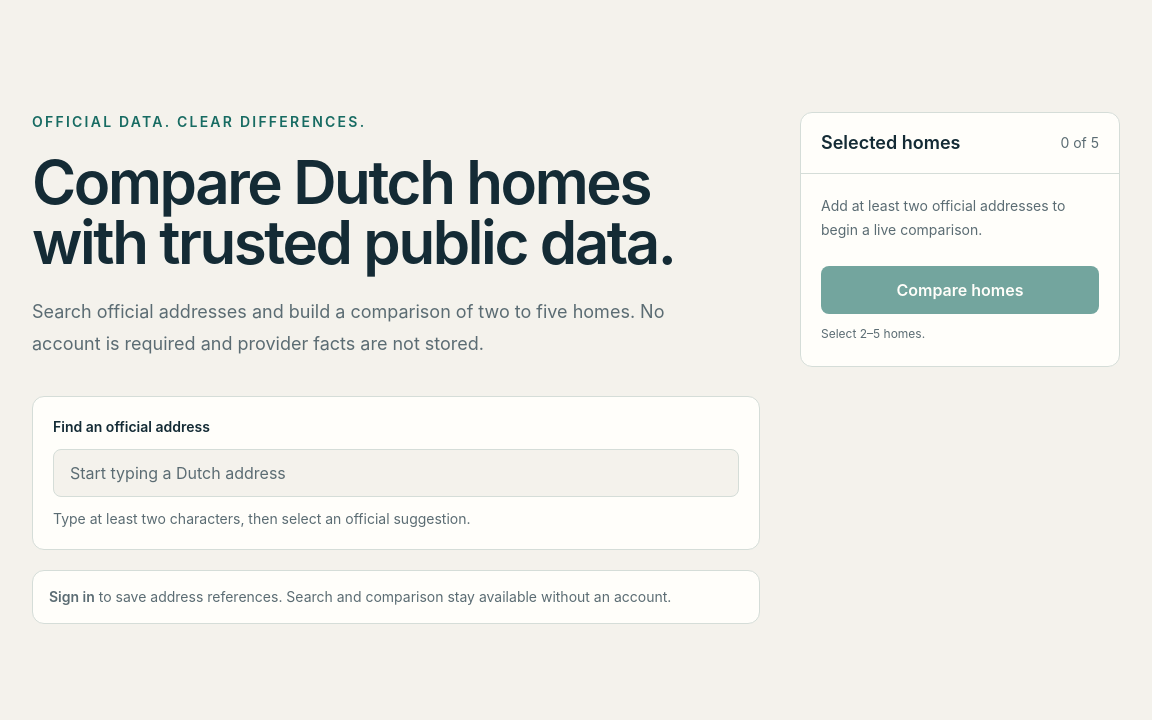
Test case: ComparisonBuilder › preserves the selection and allows retry after a comparison error
Type "Examplelaan 1" into the dropdown at (396, 473), box [53,449,739,497]
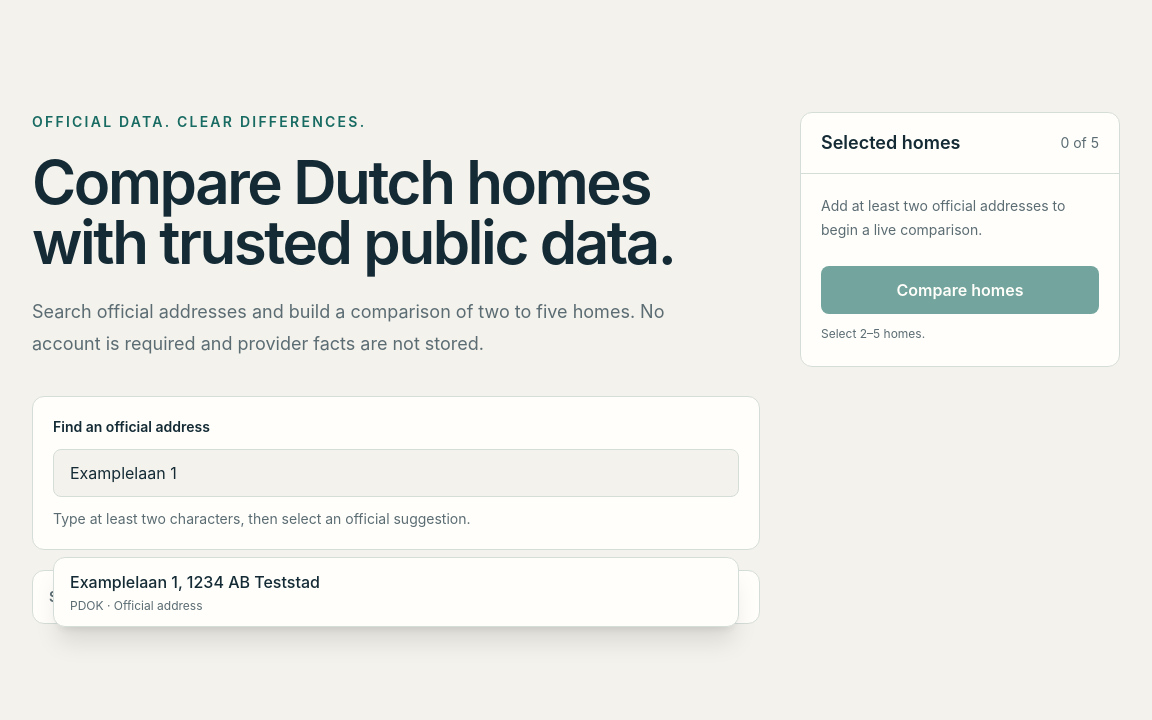
Click the option "Examplelaan 1, 1234 AB Teststad PDOK · Official address" at (195, 582), box [54,558,738,626]
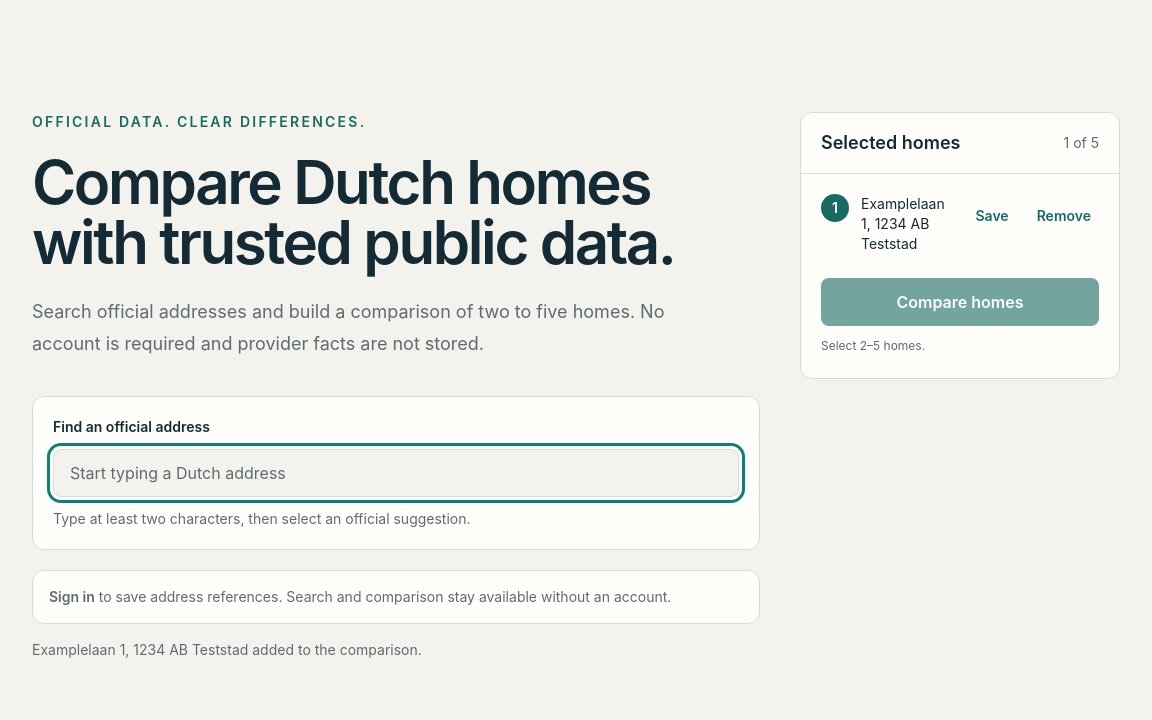
Type "Examplelaan 2" into the dropdown at (396, 473), box [53,449,739,497]
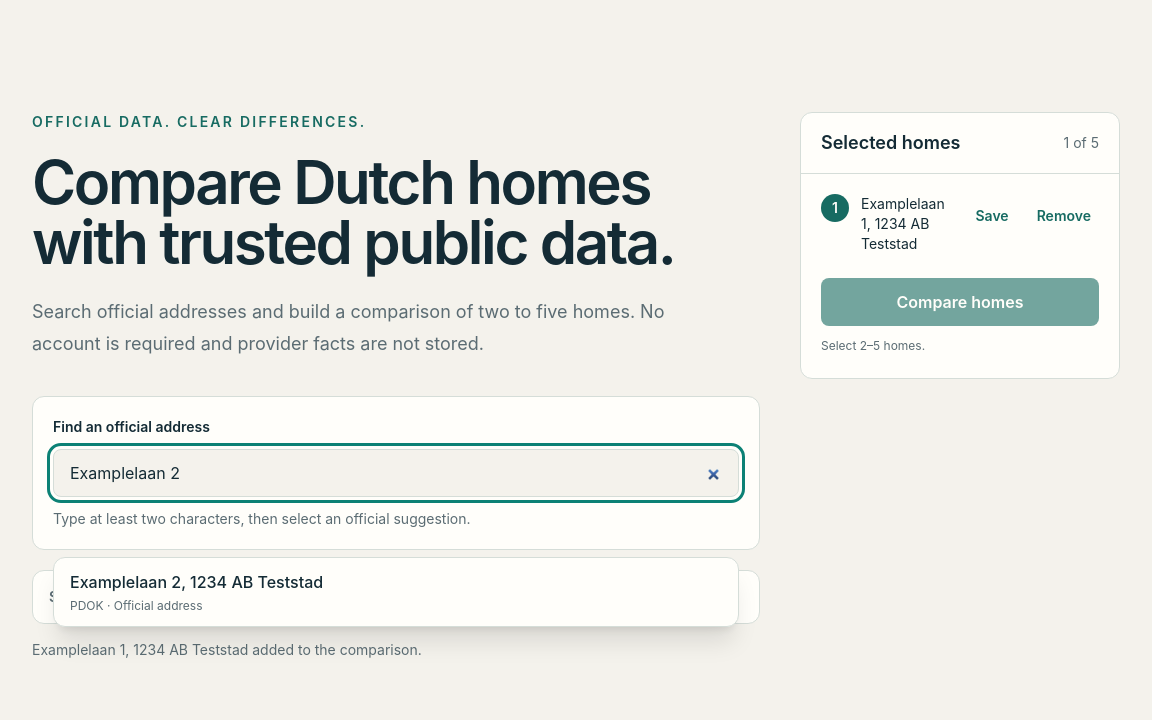
Click the option "Examplelaan 2, 1234 AB Teststad PDOK · Official address" at (197, 582), box [54,558,738,626]
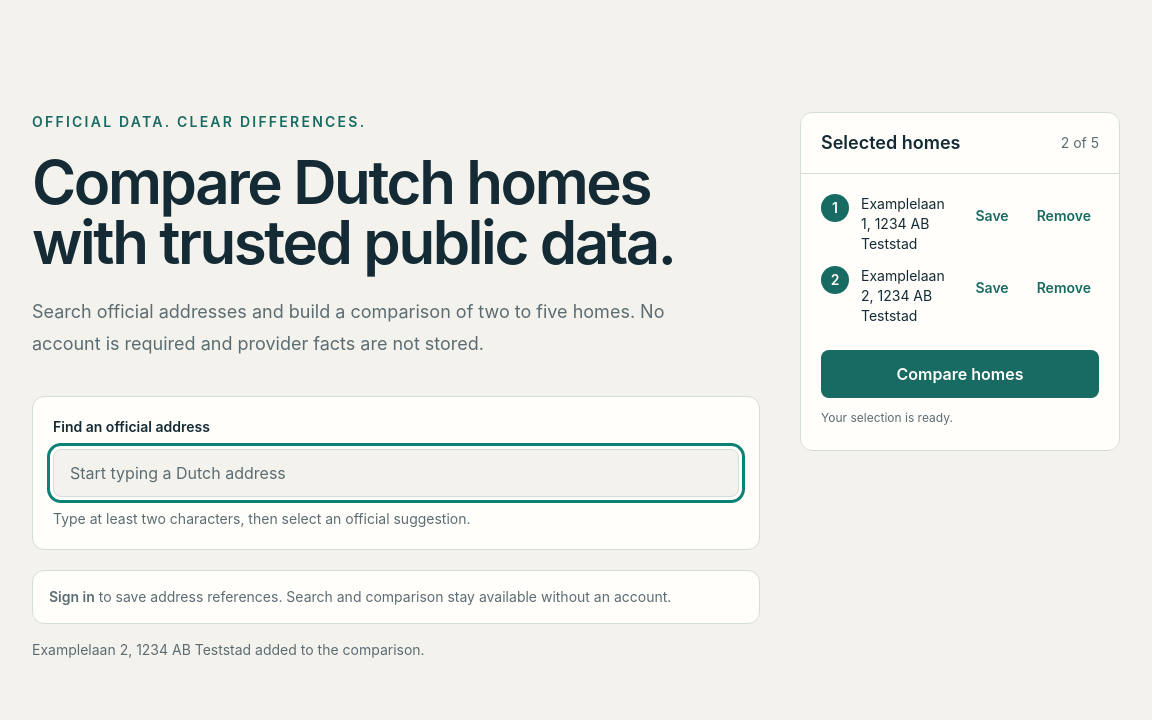
Click the button "Compare homes" at (960, 374), box [821,350,1099,398]
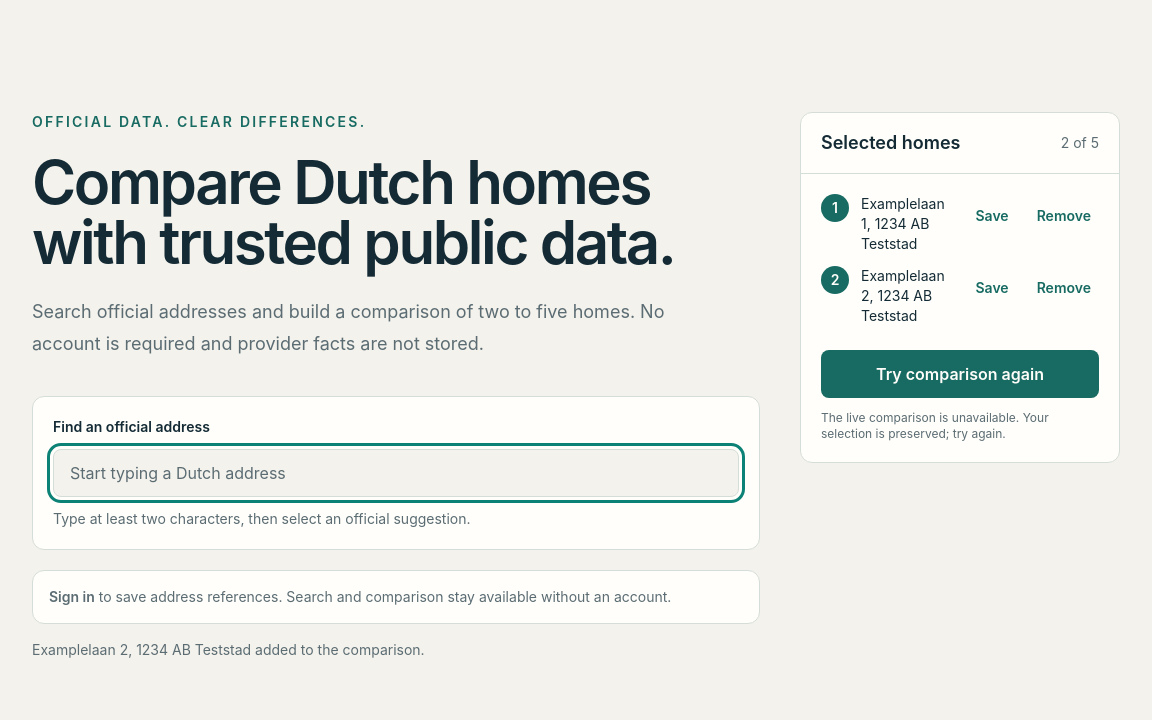
Expected: the text "2 of 5" is shown, [1061,133,1099,153]
Expected: the button "Try comparison again" is enabled, [821,350,1099,398]
Expected: the text "The live comparison is unavailable. Your selection is preserved; try again." is shown, [821,410,1049,441]
